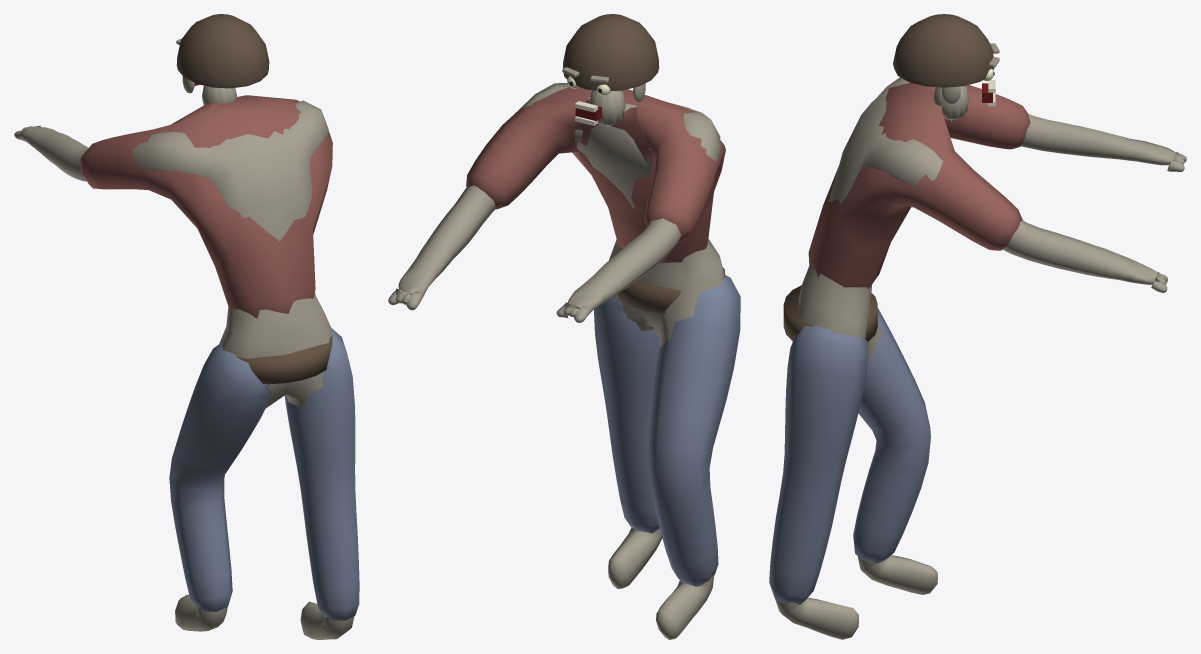
Rendered from zombie_civilian.glb.
The picture shows the model from 3 angles, left to right: view 1: azimuth 30°, elevation 25°; view 2: azimuth 150°, elevation 25°; view 3: azimuth 270°, elevation 25°; orthographic projection. The views are drawn at different scales.
Visible parts, largest first — view 1: pants, body, shirt, hair, belt, head; view 2: pants, body, shirt, hair, belt, head; view 3: pants, body, shirt, hair, belt, head.
Boxes of the visible parts, box(x1,y1,x2,y2) form: pants: box(169, 328, 359, 620); body: box(14, 100, 354, 639); shirt: box(80, 95, 332, 318); hair: box(176, 14, 269, 88); belt: box(237, 336, 332, 384); head: box(182, 76, 236, 105); pants: box(594, 275, 740, 586); body: box(388, 83, 724, 639); shirt: box(466, 86, 725, 263); hair: box(563, 14, 659, 91); belt: box(617, 267, 725, 313); head: box(589, 83, 645, 126); pants: box(769, 308, 930, 604); body: box(775, 77, 1186, 639); shirt: box(808, 82, 1030, 289); hair: box(893, 14, 994, 87); belt: box(783, 285, 877, 341); head: box(933, 85, 969, 120).
Bounding box in the file's own units: 0.707 × 1.84 × 1.16.
